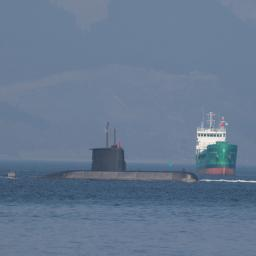submarine: (7, 118, 205, 179)
